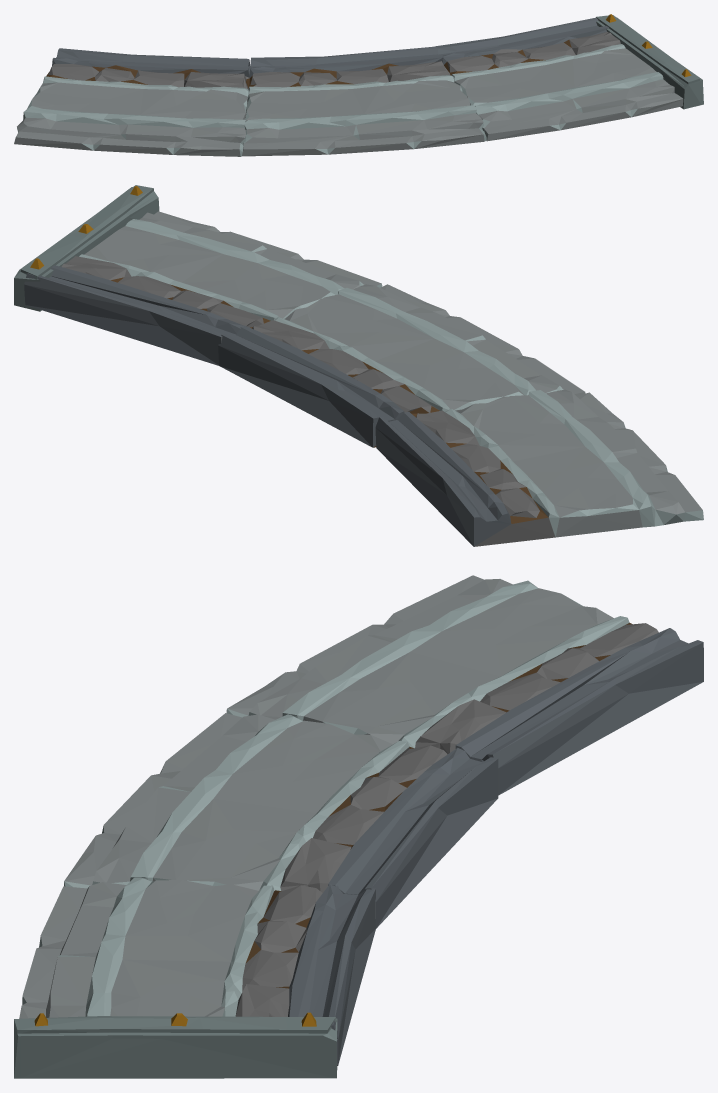
Rendered from MCastle_CYardSteps_Corner_02.FBX.
3 views of the same model, one above another, from view 1: azimuth 30°, elevation 25°; view 2: azimuth 150°, elevation 25°; view 3: azimuth 270°, elevation 25° (orthographic). The views are drawn at different scales.
Parts seen in each view (by area): view 1: MCastle_CYardSteps_Corner_02_LOD0; view 2: MCastle_CYardSteps_Corner_02_LOD0; view 3: MCastle_CYardSteps_Corner_02_LOD0.
Part boxes in pixels (x1,y1,x2,y2): MCastle_CYardSteps_Corner_02_LOD0: (14,14,703,156); MCastle_CYardSteps_Corner_02_LOD0: (14,185,703,546); MCastle_CYardSteps_Corner_02_LOD0: (14,575,703,1078).
Size of what is drawn, in the model's own units: 18.12 by 0.9807 by 10.83.
